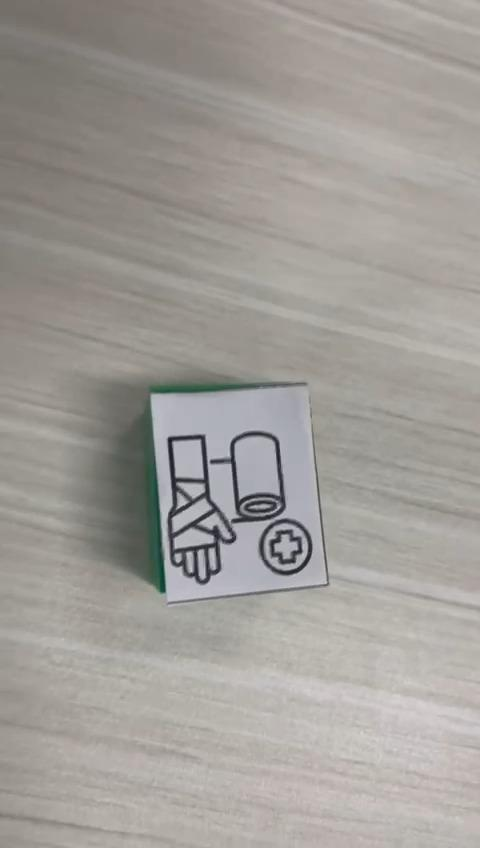Bandages: (147, 384, 331, 603)
